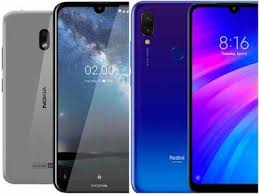nokia: (50, 1, 132, 191), (131, 1, 189, 194), (1, 5, 57, 182)
